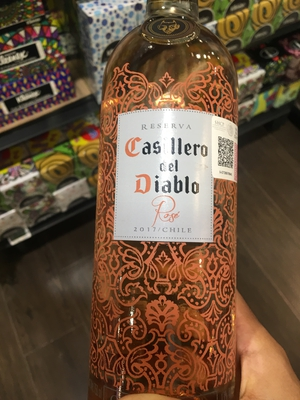casillero del diablo rose: (92, 7, 246, 384)
